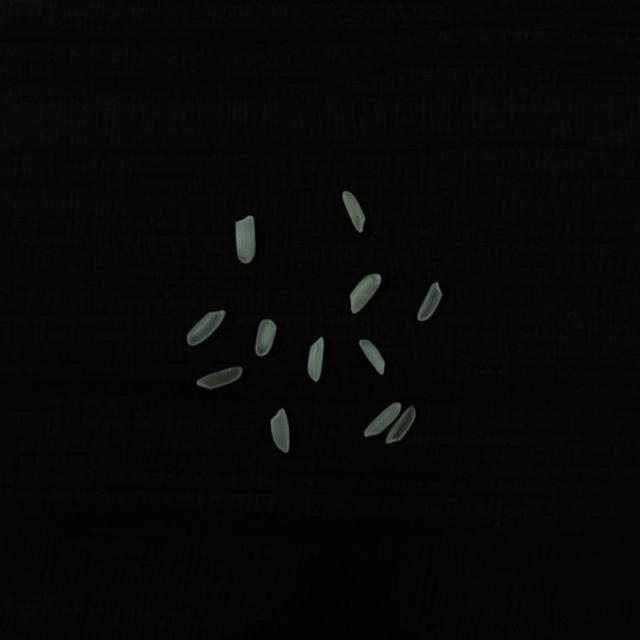Broken: (235, 216, 257, 264), (255, 319, 278, 357)
Full: (187, 310, 226, 346), (349, 273, 382, 314), (364, 402, 401, 437), (386, 405, 416, 444), (196, 366, 243, 389), (342, 191, 366, 232), (417, 282, 442, 321), (359, 339, 385, 375), (271, 408, 290, 453), (308, 337, 324, 382)
